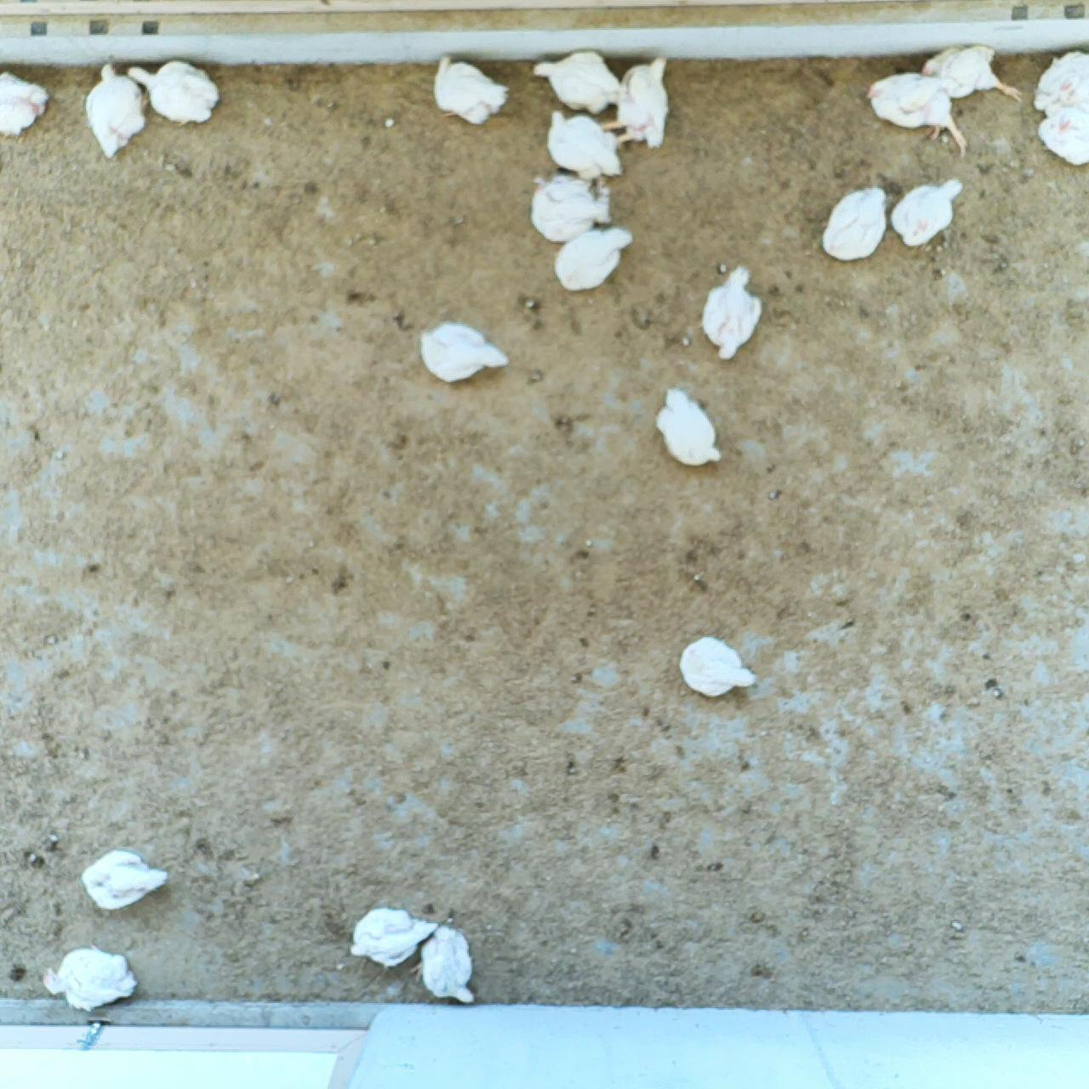chicken: (870, 71, 965, 152), (596, 57, 676, 151), (40, 944, 139, 1008), (122, 62, 223, 122), (419, 321, 508, 388), (528, 46, 624, 108), (917, 43, 1021, 100), (529, 172, 613, 242), (83, 66, 151, 152), (351, 906, 439, 972), (546, 108, 624, 180), (676, 634, 757, 700), (888, 172, 961, 245), (433, 56, 509, 123), (704, 267, 761, 356), (654, 391, 719, 469), (556, 228, 636, 288), (822, 188, 887, 261), (419, 925, 474, 1009), (83, 852, 164, 903), (1038, 97, 1089, 168), (1033, 45, 1089, 103), (1, 74, 46, 135)
